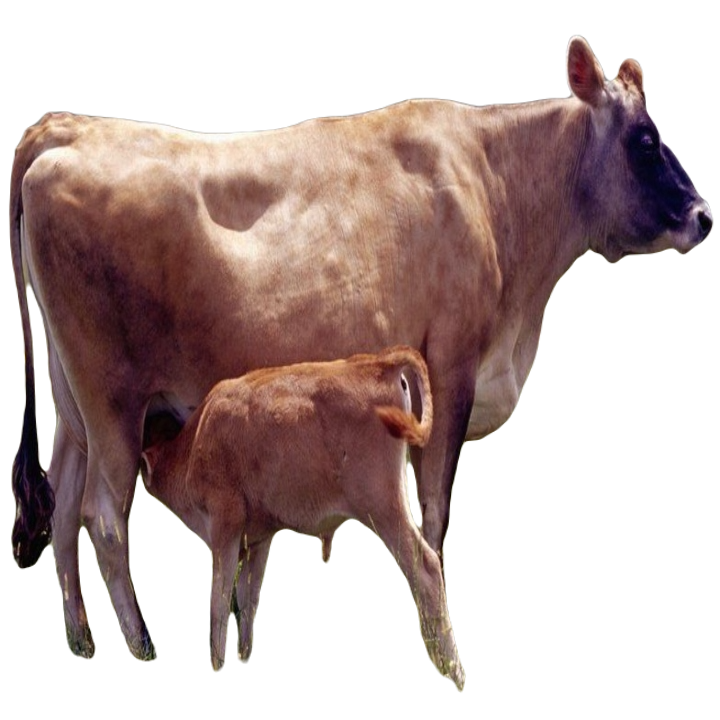Cow: (1, 35, 715, 685)
